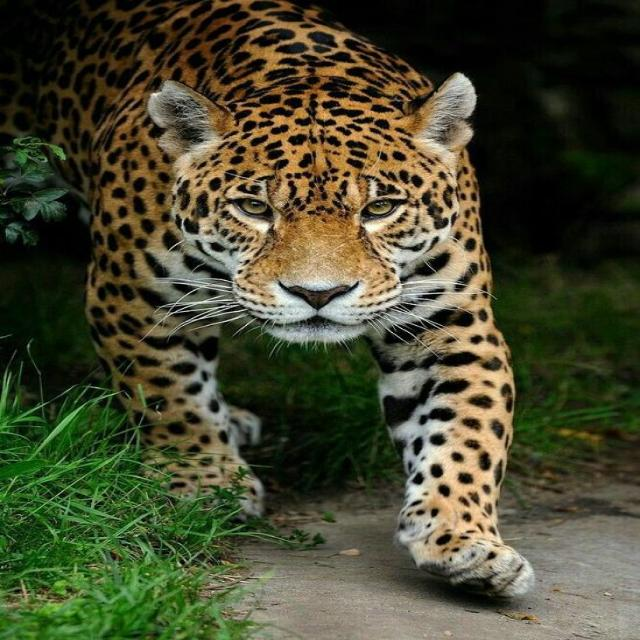Jaguar: (20, 0, 543, 611)
